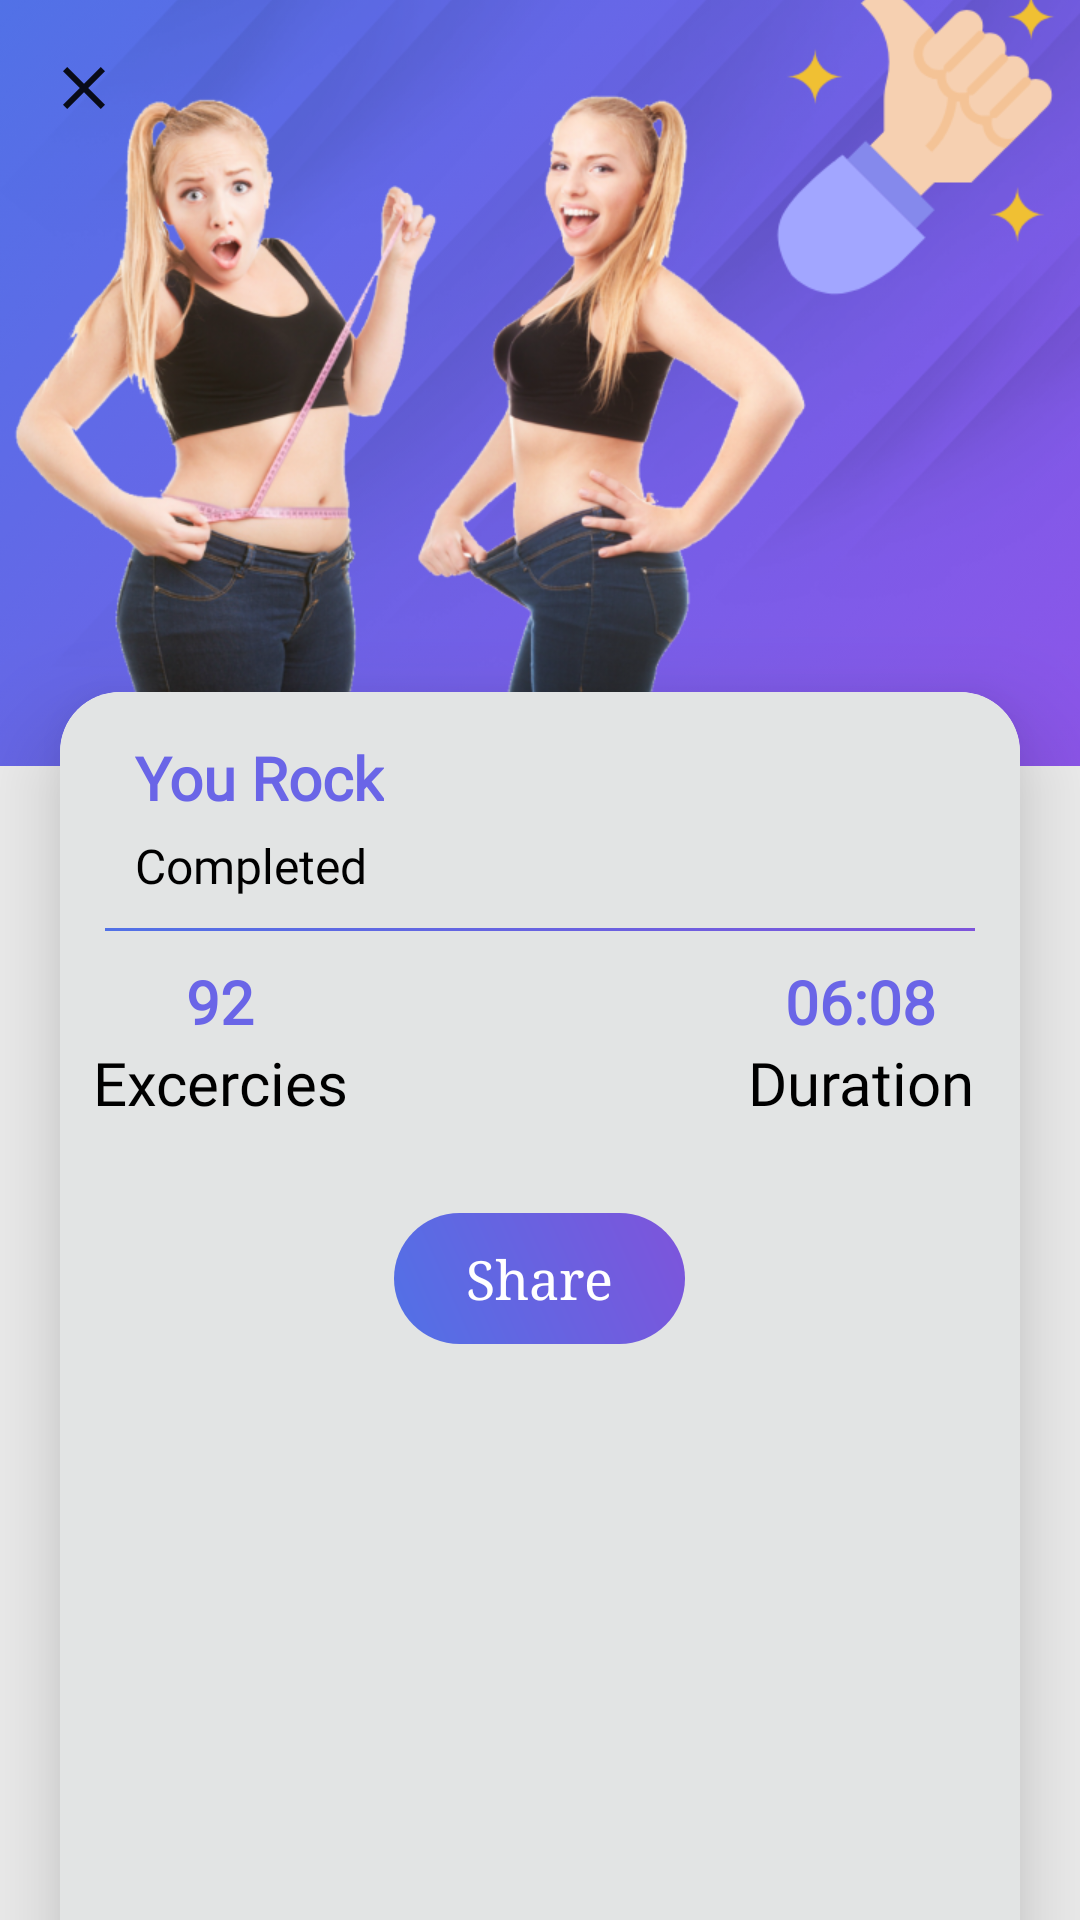

Where icons sit on this 1080px x 1920px app screen, as [x1=x1, y1=y1, x2=x2, y2=y2]:
clear: [x1=63, y1=67, x2=105, y2=109]
